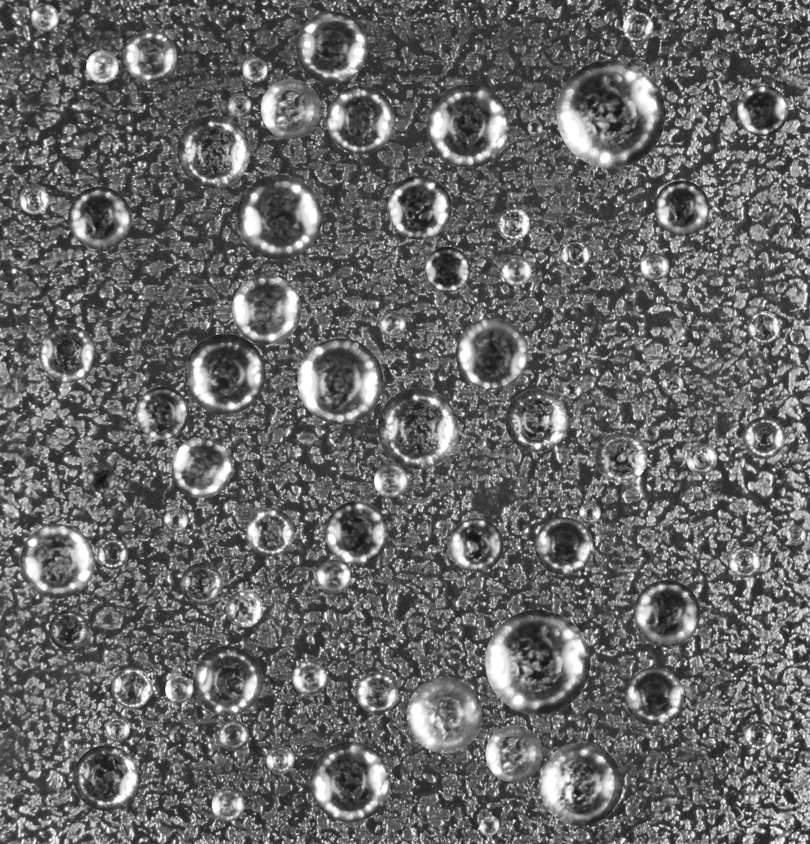Bubble: (556, 59, 665, 168), (485, 609, 590, 714), (297, 338, 383, 424), (236, 174, 321, 259), (539, 742, 622, 826), (426, 84, 510, 167), (377, 388, 458, 469), (184, 333, 265, 414), (309, 741, 390, 822), (406, 677, 482, 753), (20, 524, 94, 598), (177, 115, 250, 188), (295, 11, 368, 83), (455, 317, 527, 389), (192, 645, 262, 715), (232, 275, 301, 344), (326, 85, 394, 153), (633, 580, 700, 646), (73, 745, 139, 811), (387, 175, 451, 239), (68, 186, 131, 249), (325, 501, 388, 564), (505, 389, 567, 451), (171, 437, 232, 498), (260, 79, 320, 139), (625, 667, 684, 726), (38, 324, 96, 382), (535, 517, 593, 575), (485, 725, 542, 782), (654, 180, 709, 235), (449, 518, 503, 572), (135, 386, 189, 439), (124, 29, 176, 82), (595, 431, 647, 483), (737, 85, 788, 136), (246, 508, 294, 556), (424, 246, 470, 292), (180, 562, 223, 605), (743, 416, 785, 458), (356, 672, 398, 713), (48, 610, 89, 650), (111, 668, 151, 708), (225, 590, 262, 627), (316, 559, 350, 593), (292, 661, 326, 695), (211, 788, 244, 821), (374, 464, 407, 497), (496, 207, 529, 240), (747, 311, 780, 343), (86, 50, 118, 82), (97, 538, 128, 569), (623, 11, 654, 42), (218, 720, 249, 751), (729, 546, 760, 577), (686, 443, 717, 474), (501, 255, 531, 286), (19, 184, 49, 214), (560, 239, 589, 269), (744, 720, 773, 749), (640, 251, 669, 280), (266, 746, 294, 774), (87, 464, 115, 492), (165, 675, 192, 703), (31, 4, 58, 31), (379, 311, 405, 337), (242, 57, 267, 82), (105, 716, 129, 741), (163, 508, 187, 532), (227, 94, 251, 117), (661, 373, 683, 395), (579, 502, 600, 524), (479, 815, 499, 835), (786, 525, 806, 544), (711, 52, 730, 70), (563, 380, 581, 398), (643, 425, 658, 441), (527, 120, 542, 135), (790, 330, 804, 344), (443, 631, 457, 645), (749, 665, 760, 676)
